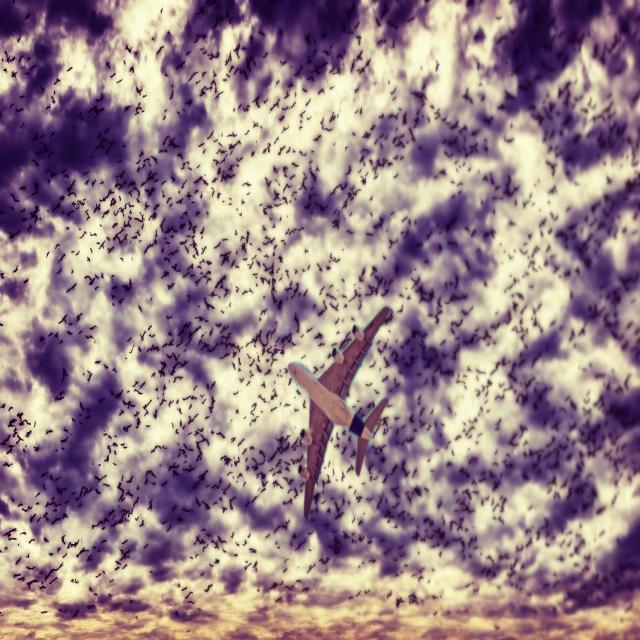airplane: (287, 304, 393, 520)
